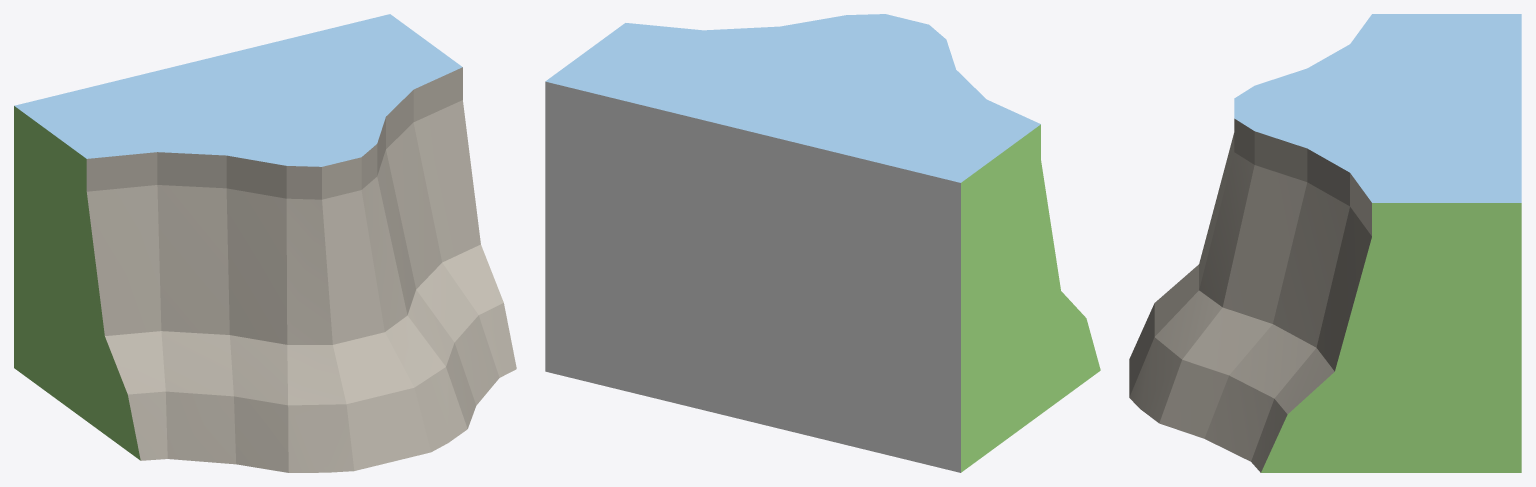
Rendered from Wall_Straight_Deformed_Convex_3x3_Base.glb.
The picture shows the model from 3 angles, left to right: view 1: azimuth 30°, elevation 25°; view 2: azimuth 150°, elevation 25°; view 3: azimuth 270°, elevation 25°; orthographic projection. The views are drawn at different scales.
Visible parts, largest first — view 1: Wall_Straight_Deformed_Convex_3x3_Base; view 2: Wall_Straight_Deformed_Convex_3x3_Base; view 3: Wall_Straight_Deformed_Convex_3x3_Base.
Part boxes in pixels (x1,y1,x2,y2): Wall_Straight_Deformed_Convex_3x3_Base: (14, 14, 516, 472); Wall_Straight_Deformed_Convex_3x3_Base: (545, 14, 1100, 472); Wall_Straight_Deformed_Convex_3x3_Base: (1129, 14, 1521, 472).
Bounding box in the file's own units: 300 × 200 × 263.
